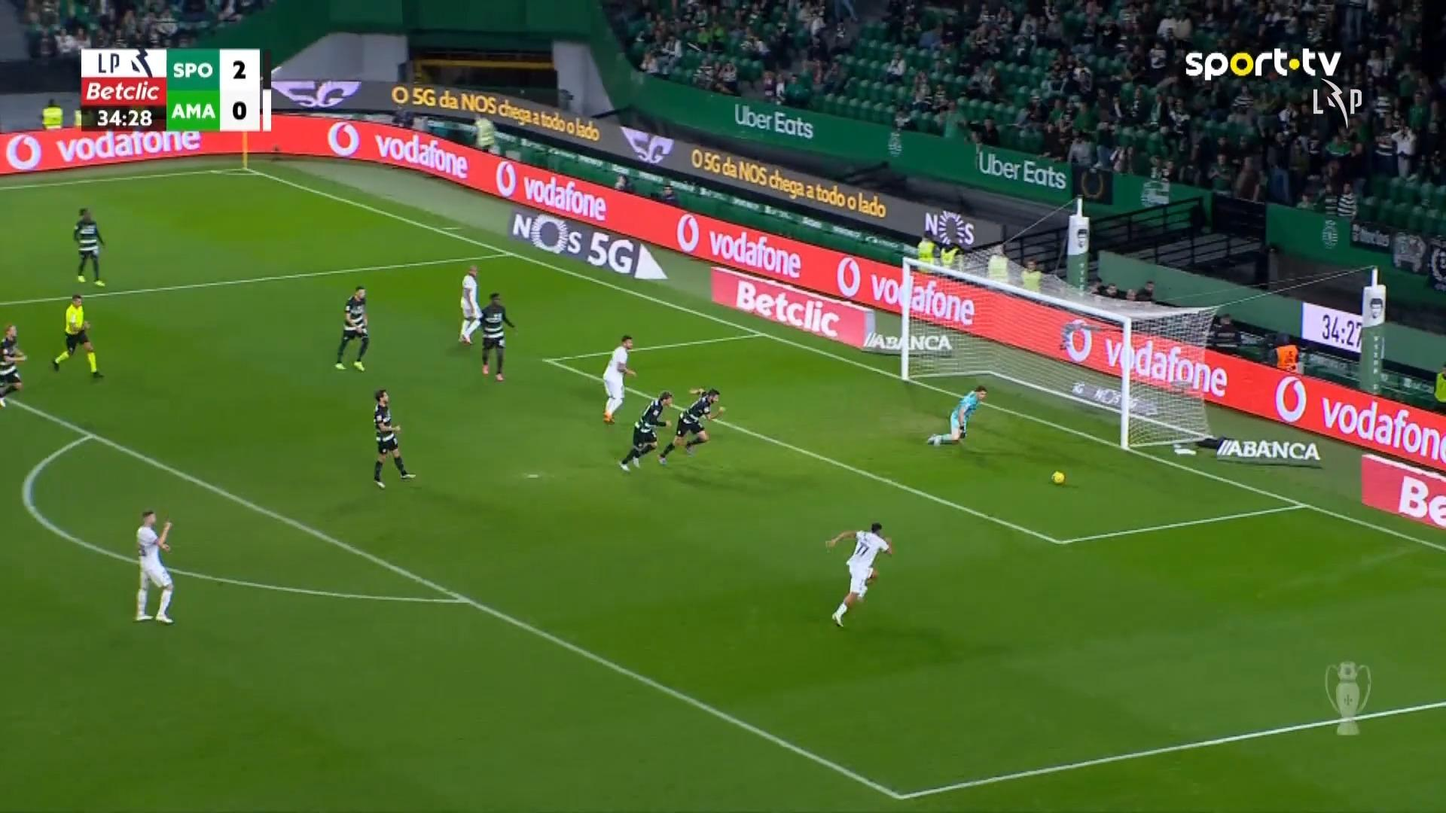ball: (1051, 470, 1064, 484)
goalkeeper: (926, 384, 987, 446)
player: (823, 521, 893, 628), (657, 387, 725, 466), (133, 509, 175, 623), (371, 388, 416, 489), (618, 390, 673, 471), (477, 291, 515, 381), (600, 334, 636, 424), (334, 285, 370, 371), (72, 206, 106, 285), (0, 324, 26, 407), (458, 264, 481, 345)
referee: (50, 294, 103, 378)
